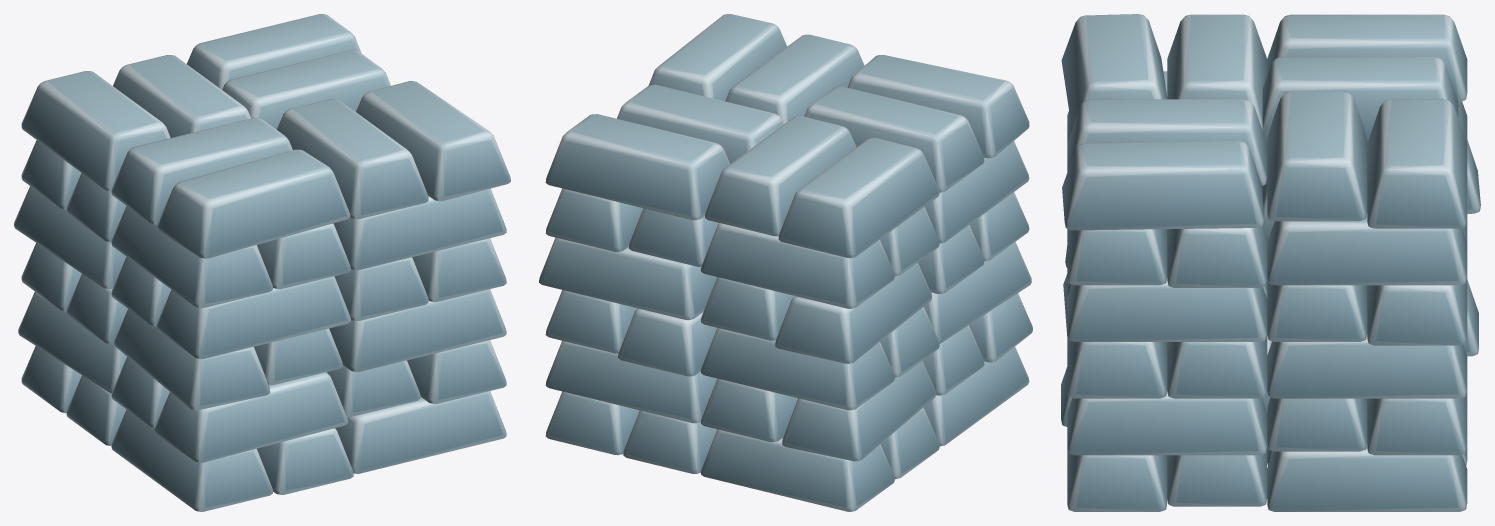
Rendered from silver_bars_stack_large.glb.
The picture shows the model from 3 angles, left to right: view 1: azimuth 30°, elevation 25°; view 2: azimuth 150°, elevation 25°; view 3: azimuth 270°, elevation 25°; orthographic projection. The views are drawn at different scales.
Visible parts, largest first — view 1: Silver_Bars_Stack_Large; view 2: Silver_Bars_Stack_Large; view 3: Silver_Bars_Stack_Large.
Boxes of the visible parts, <box> form: Silver_Bars_Stack_Large: <box>14,14,510,511</box>; Silver_Bars_Stack_Large: <box>539,14,1032,511</box>; Silver_Bars_Stack_Large: <box>1061,14,1480,511</box>.
Size of the model in its own units: 0.9946 by 0.9 by 1.01.
Materials: 1 (1 with a texture image).
